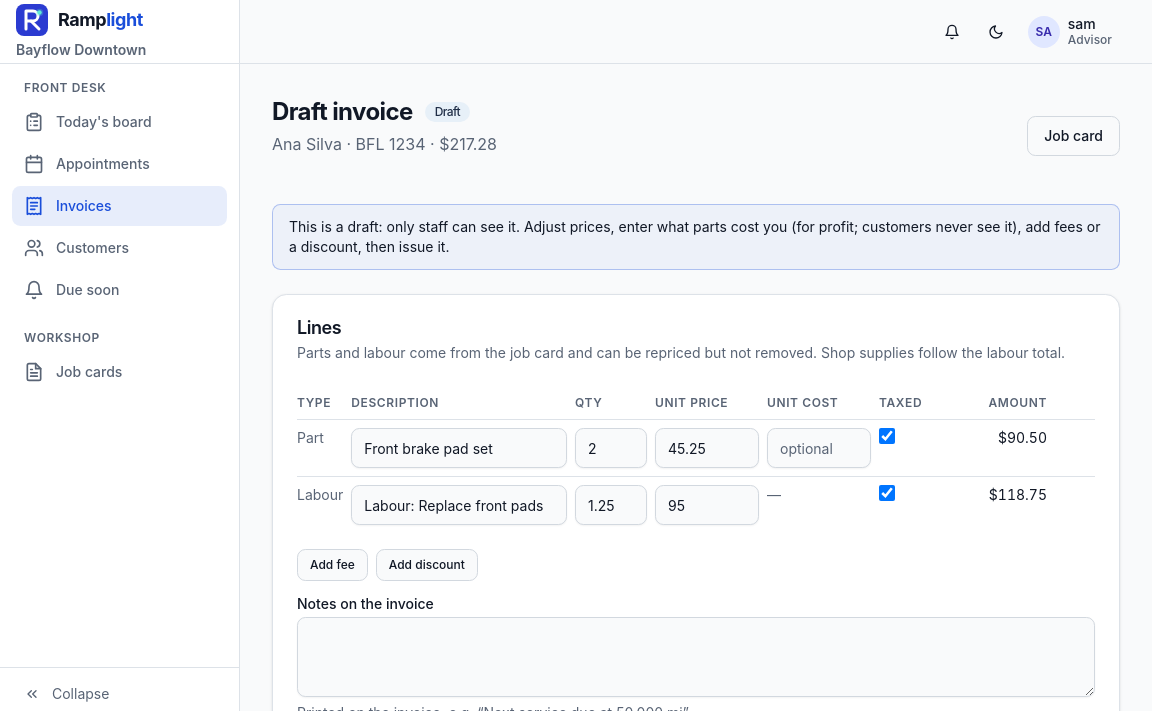
Test: invoices (R2a) › edits a draft, then issues it
Step 1. Type "30" into the field named "Unit cost of Front brake pad set" → (819, 448), box [767,428,871,468]
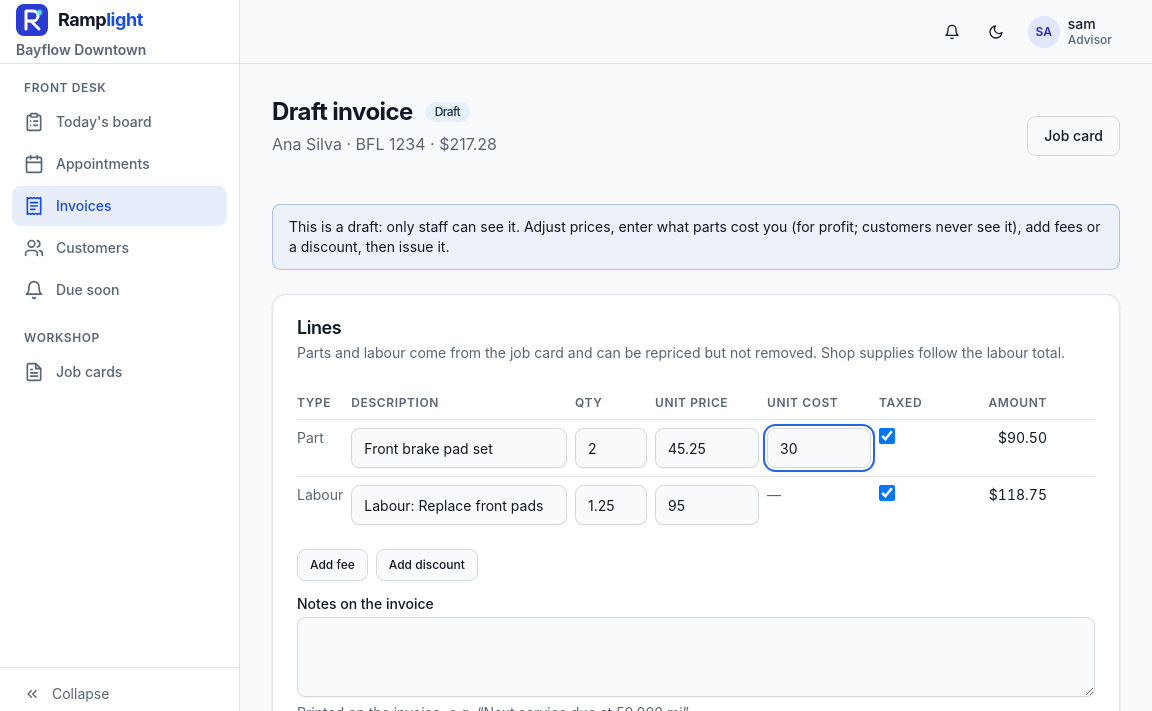
Step 2. Click the button "Add discount" → (427, 565), box [376,549,478,581]
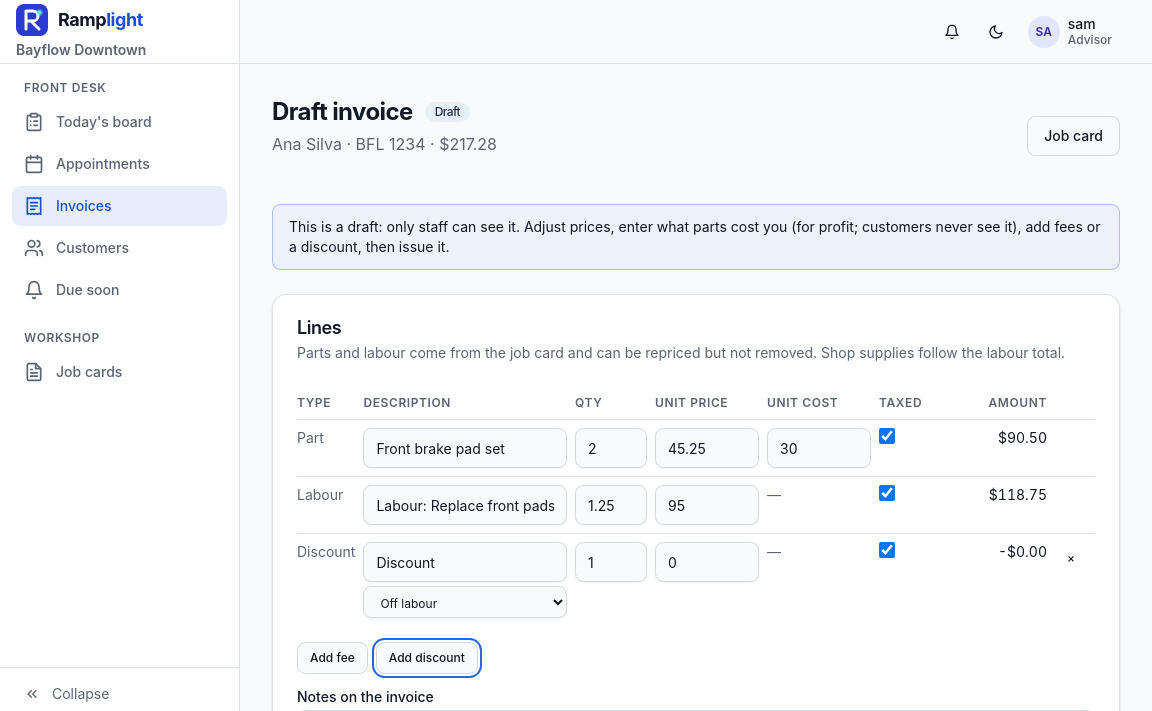
Step 3. Replace the text in the field named "Amount off (Discount)" with "10" → (707, 562), box [655,542,759,582]
(page scrolled)
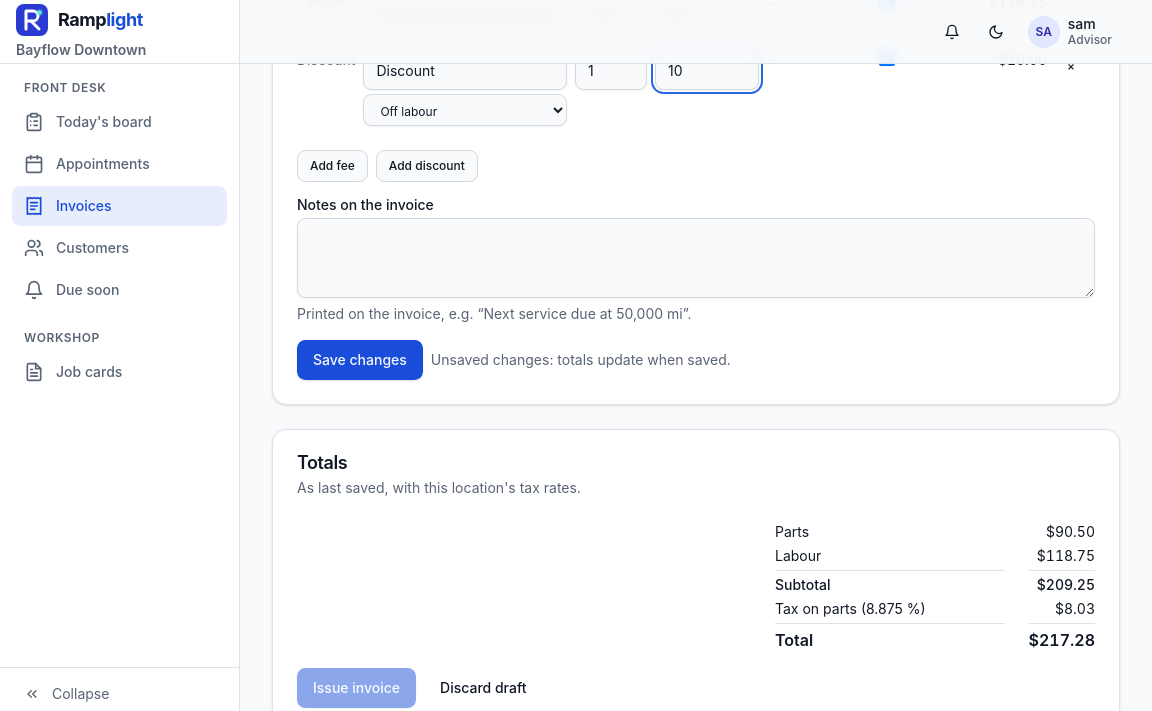
Now the button "Issue invoice" is disabled, box [297,668,416,708]
Step 4. Click the button "Save changes" → (360, 360), box [297,340,423,380]
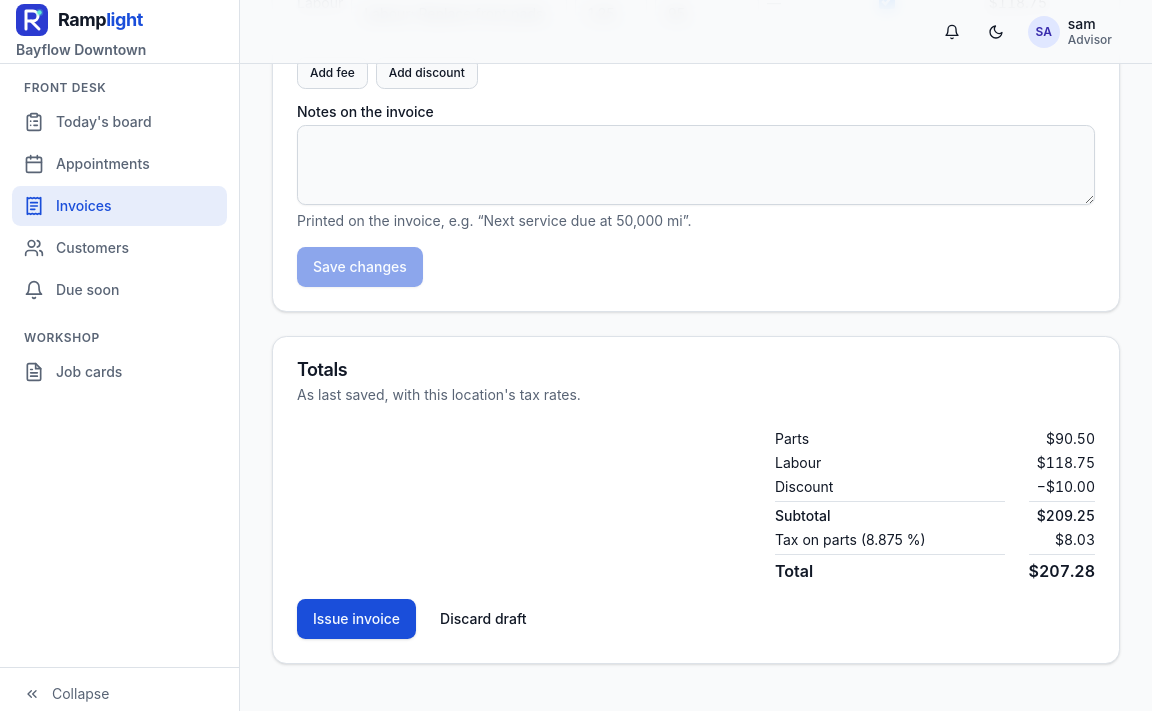
Step 5. Click the button "Issue invoice" → (357, 619), box [297,599,416,639]
(page scrolled)
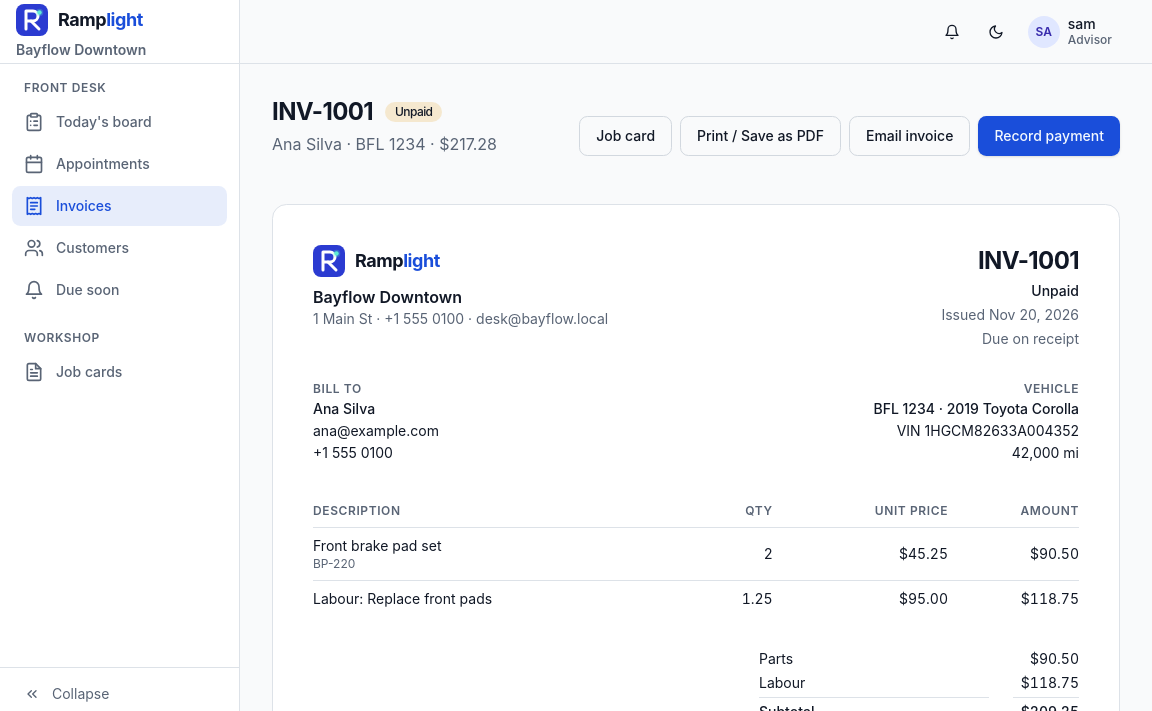
Now the heading "INV-1001 Unpaid" is shown, box [272,97,442,126]
